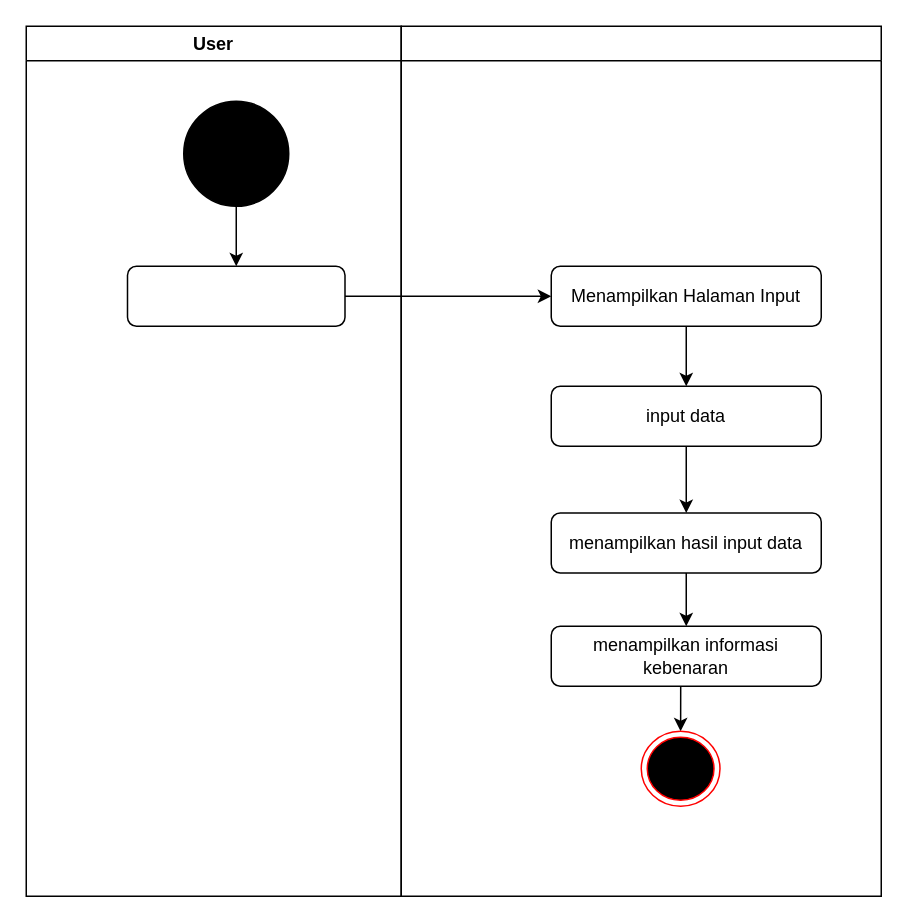
This 908x923 diagram has some shape labels left out. Here are the shapes that lost their labels. From the top down, the box of each, then its label:
(126, 265, 345, 326): persiapan penginputan
(400, 25, 881, 896): Sistem
